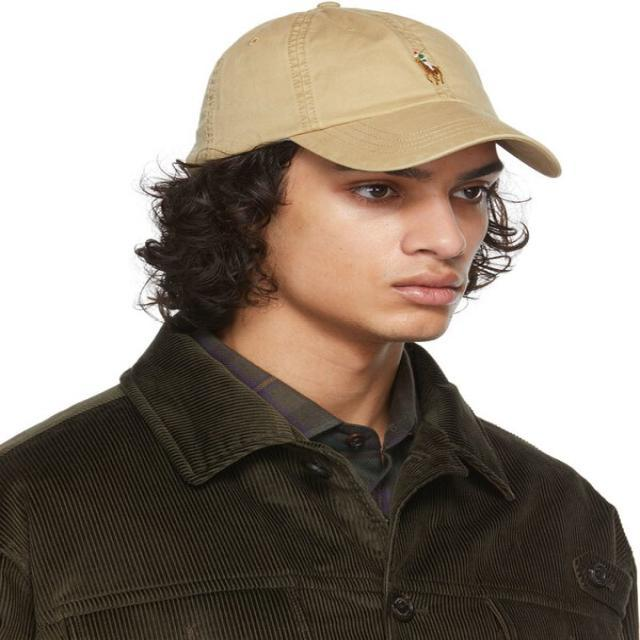cap: (165, 2, 566, 185)
